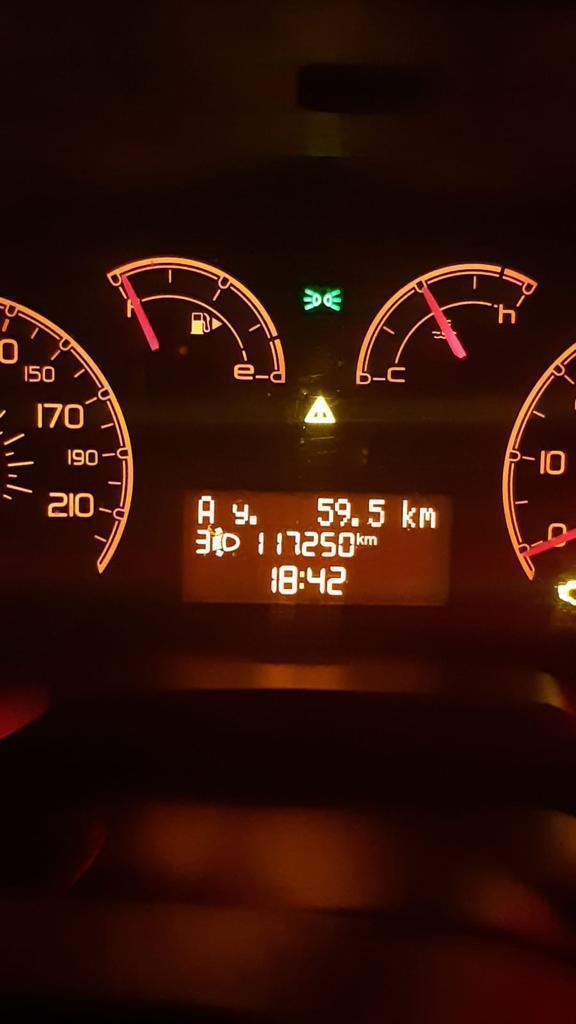,: (350, 516, 361, 528), (248, 513, 258, 526)
0: (338, 530, 355, 559)
1: (254, 530, 265, 556), (273, 529, 283, 556), (269, 565, 278, 594)
2: (326, 564, 347, 596), (301, 530, 319, 557)
3: (192, 527, 211, 556)
4: (305, 565, 326, 594)
5: (365, 496, 387, 529), (314, 495, 334, 528), (320, 530, 338, 557)
7: (284, 529, 301, 556)
8: (277, 563, 298, 596)
9: (334, 496, 351, 528)
X: (195, 493, 215, 525), (400, 497, 417, 529), (417, 505, 438, 530), (230, 500, 249, 526), (364, 533, 378, 546), (297, 569, 305, 590), (355, 531, 364, 546)
odometer: (168, 479, 459, 611)
